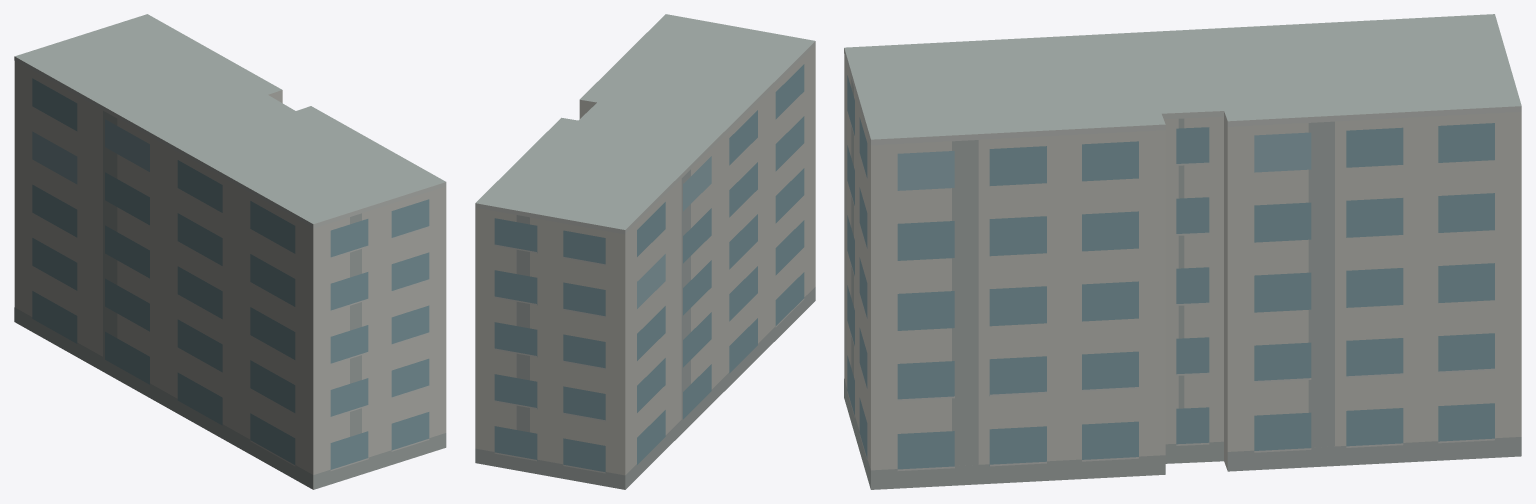
The model's file is survey-upis-33012409.glb.
3 renders of one model, left to right at view 1: azimuth 30°, elevation 25°; view 2: azimuth 150°, elevation 25°; view 3: azimuth 270°, elevation 25°, orthographic. The views are drawn at different scales.
Visible parts, largest first — view 1: survey-upis-33012409.tmp; view 2: survey-upis-33012409.tmp; view 3: survey-upis-33012409.tmp.
Part boxes in pixels (left/top/right/bottom): survey-upis-33012409.tmp: left=14, top=14, right=446, bottom=489; survey-upis-33012409.tmp: left=475, top=14, right=815, bottom=489; survey-upis-33012409.tmp: left=844, top=14, right=1521, bottom=489.
Size of the model in its own units: 11.24 by 14.6 by 25.61.
